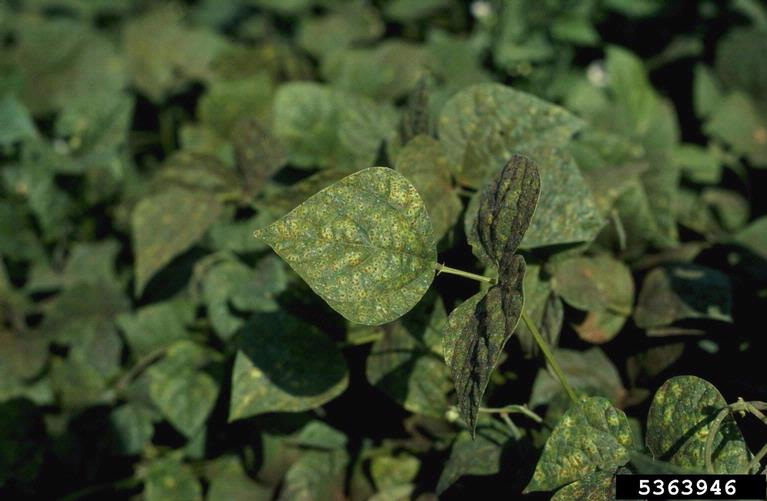StringBeans_BeanRust: (253, 168, 439, 324)
